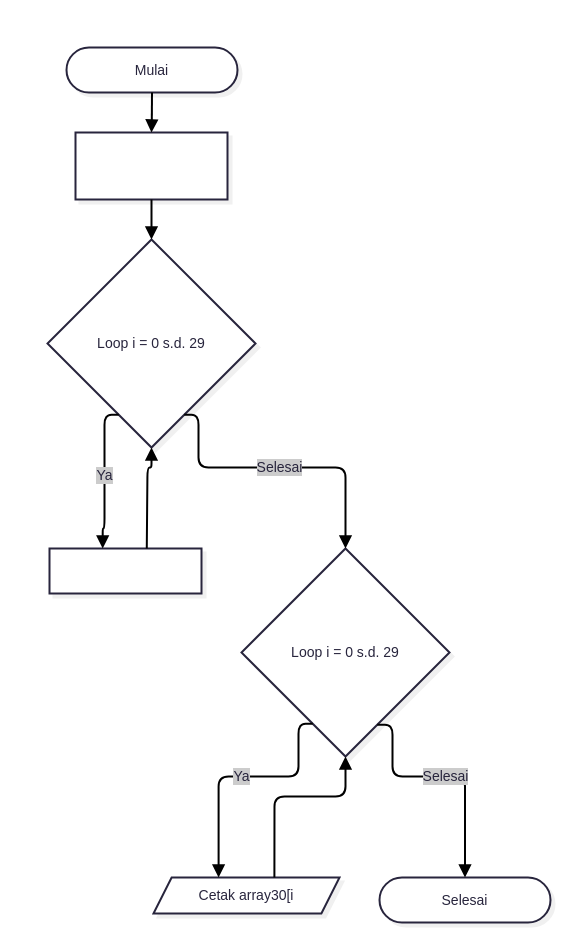
This 572x944 diagram has some shape labels left out. The shapes that lost their labels are listed below. From the top down, each one's centre as x and y in pixels, then its label:
At point (153, 167): "Inisialisasi array30[30".
At point (127, 572): "array30[i".
